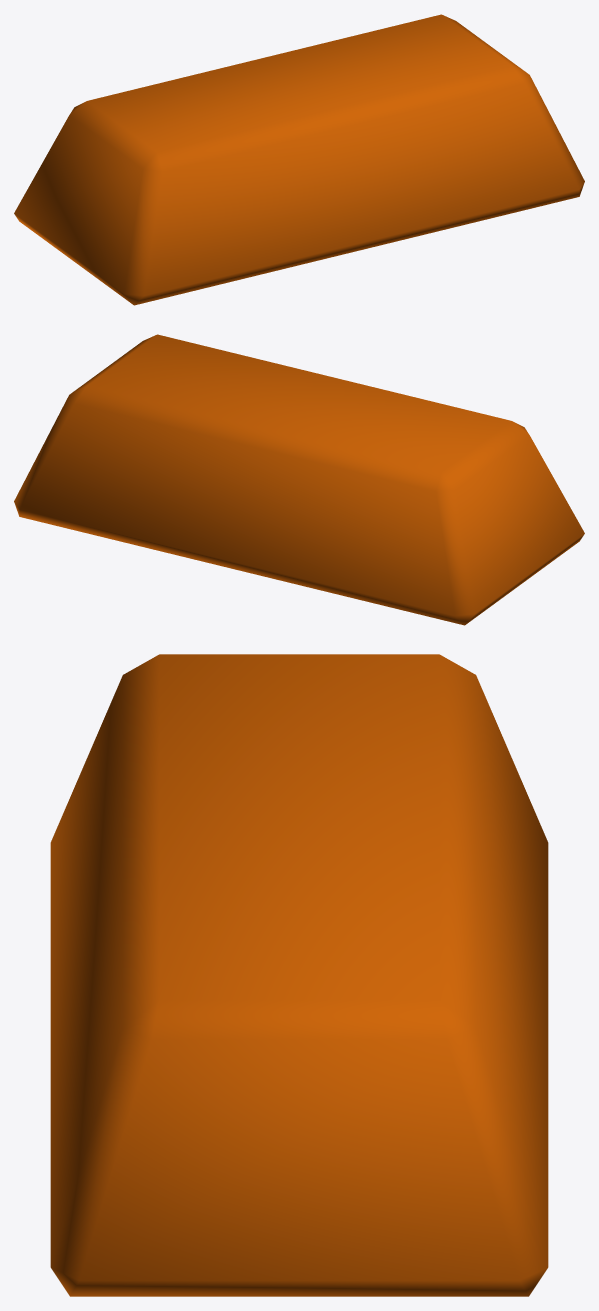
File: SRA_Metal_Copper_Ingot_Single_01.glb
3 renders of one model, top to bottom at view 1: azimuth 30°, elevation 25°; view 2: azimuth 150°, elevation 25°; view 3: azimuth 270°, elevation 25°, orthographic. The views are drawn at different scales.
Visible parts, largest first — view 1: Metal_Copper_Ingot_Single_01; view 2: Metal_Copper_Ingot_Single_01; view 3: Metal_Copper_Ingot_Single_01.
Boxes of the visible parts, x1,y1,x2,y2 form: Metal_Copper_Ingot_Single_01: (14, 14, 584, 305); Metal_Copper_Ingot_Single_01: (14, 334, 584, 625); Metal_Copper_Ingot_Single_01: (50, 654, 548, 1296).
Bounding box in the file's own units: 0.4242 × 0.1107 × 0.1983.
1 material, 1 textured.
